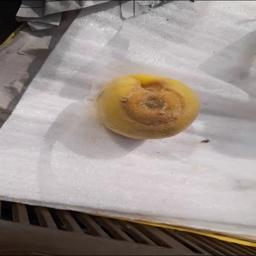Peach Rotten: (84, 70, 206, 154)
